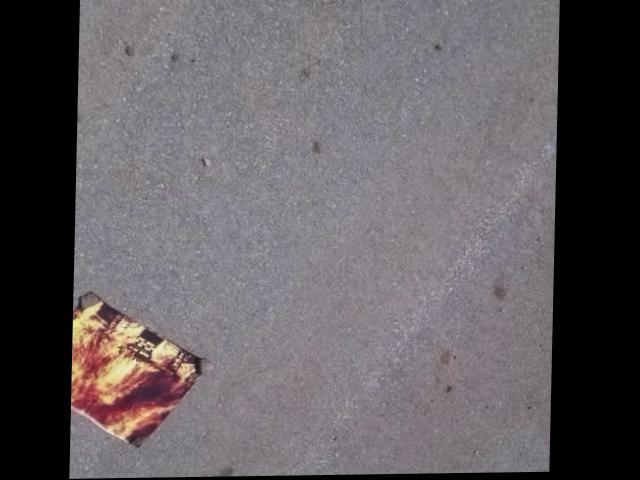fire-poster: (73, 288, 216, 450)
